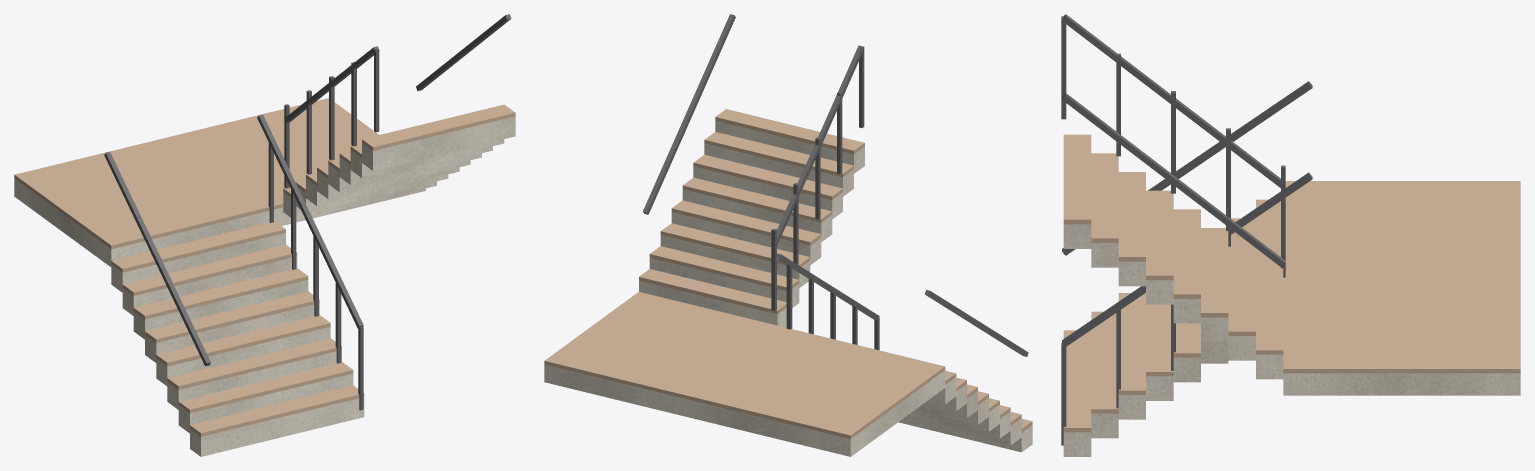
Rendered from stairs_u_3m_192_168.glb.
The picture shows the model from 3 angles, left to right: view 1: azimuth 30°, elevation 25°; view 2: azimuth 150°, elevation 25°; view 3: azimuth 270°, elevation 25°; orthographic projection. The views are drawn at different scales.
Visible parts, largest first — view 1: stairs_u_3m_192_168_floor, stairs_u_3m_192_168_plaster, stairs_u_3m_192_168_iron; view 2: stairs_u_3m_192_168_floor, stairs_u_3m_192_168_plaster, stairs_u_3m_192_168_iron; view 3: stairs_u_3m_192_168_floor, stairs_u_3m_192_168_plaster, stairs_u_3m_192_168_iron.
Boxes of the visible parts, box(x1,y1,x2,y2) form: stairs_u_3m_192_168_floor: box(14, 98, 515, 436); stairs_u_3m_192_168_plaster: box(14, 116, 515, 456); stairs_u_3m_192_168_iron: box(104, 14, 511, 410); stairs_u_3m_192_168_floor: box(544, 109, 1032, 438); stairs_u_3m_192_168_plaster: box(544, 120, 1032, 456); stairs_u_3m_192_168_iron: box(643, 14, 1028, 356); stairs_u_3m_192_168_floor: box(1063, 134, 1520, 432); stairs_u_3m_192_168_plaster: box(1063, 224, 1520, 456); stairs_u_3m_192_168_iron: box(1061, 14, 1312, 445).
Size of the model in its own units: 3.6 by 4.01 by 3.72.
3 materials, 1 textured.
